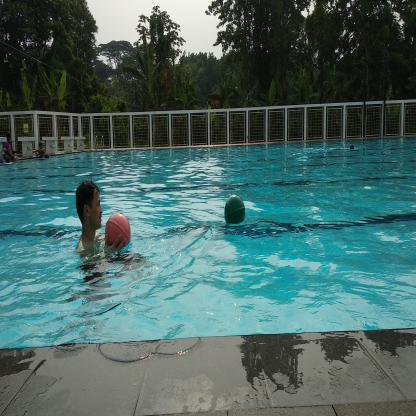green_buoy: (222, 194, 246, 230)
red_buoy: (103, 212, 133, 252)
